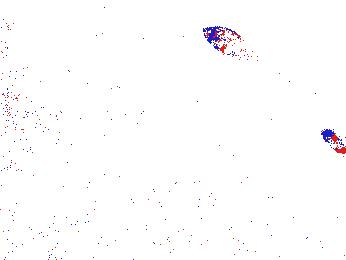X-ray fish: (202, 26, 250, 58)
red belly glassfish: (320, 129, 346, 155), (3, 83, 21, 119)
